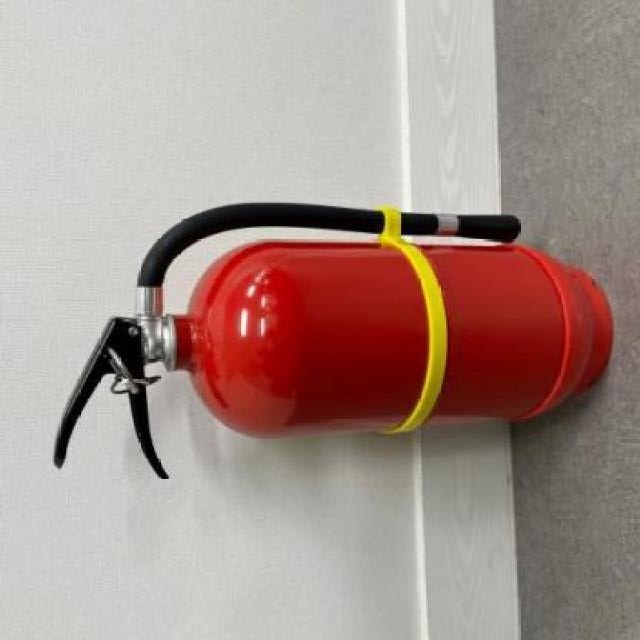fire extinguisher: (52, 201, 614, 479)
